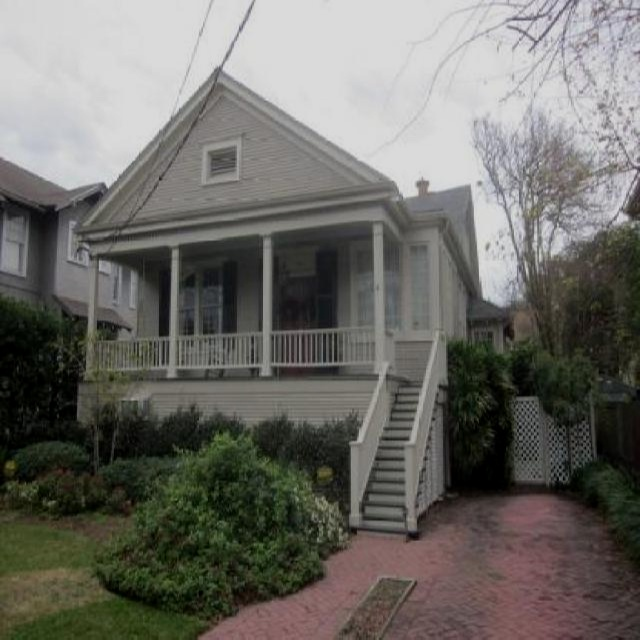stair: (354, 363, 421, 549)
